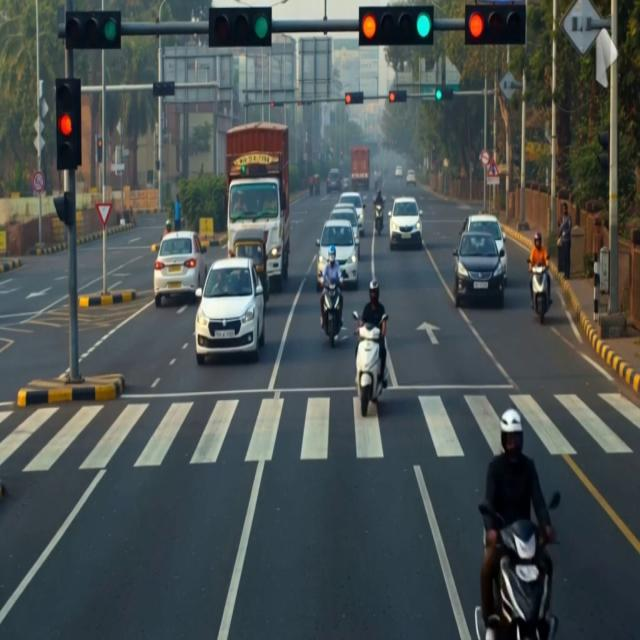car: (195, 258, 264, 364), (154, 231, 206, 307), (454, 232, 504, 307), (316, 220, 359, 290), (464, 215, 507, 284), (388, 197, 422, 250), (338, 192, 365, 236), (330, 204, 359, 236), (326, 168, 342, 193), (406, 170, 416, 185), (342, 177, 349, 191), (395, 166, 402, 177)
scooty: (479, 504, 558, 639), (356, 324, 384, 416), (323, 282, 341, 347), (532, 264, 549, 323), (375, 204, 383, 235)
traffic signal: (359, 6, 433, 46), (465, 3, 526, 45), (209, 8, 271, 47), (55, 79, 81, 170), (65, 11, 121, 49), (53, 192, 74, 226), (598, 132, 609, 173), (152, 82, 175, 98), (435, 88, 453, 101), (389, 90, 406, 103), (345, 92, 363, 104), (96, 136, 102, 163), (297, 100, 313, 106), (270, 102, 283, 108), (270, 102, 275, 107)
truck: (226, 122, 290, 291), (351, 146, 369, 191)
